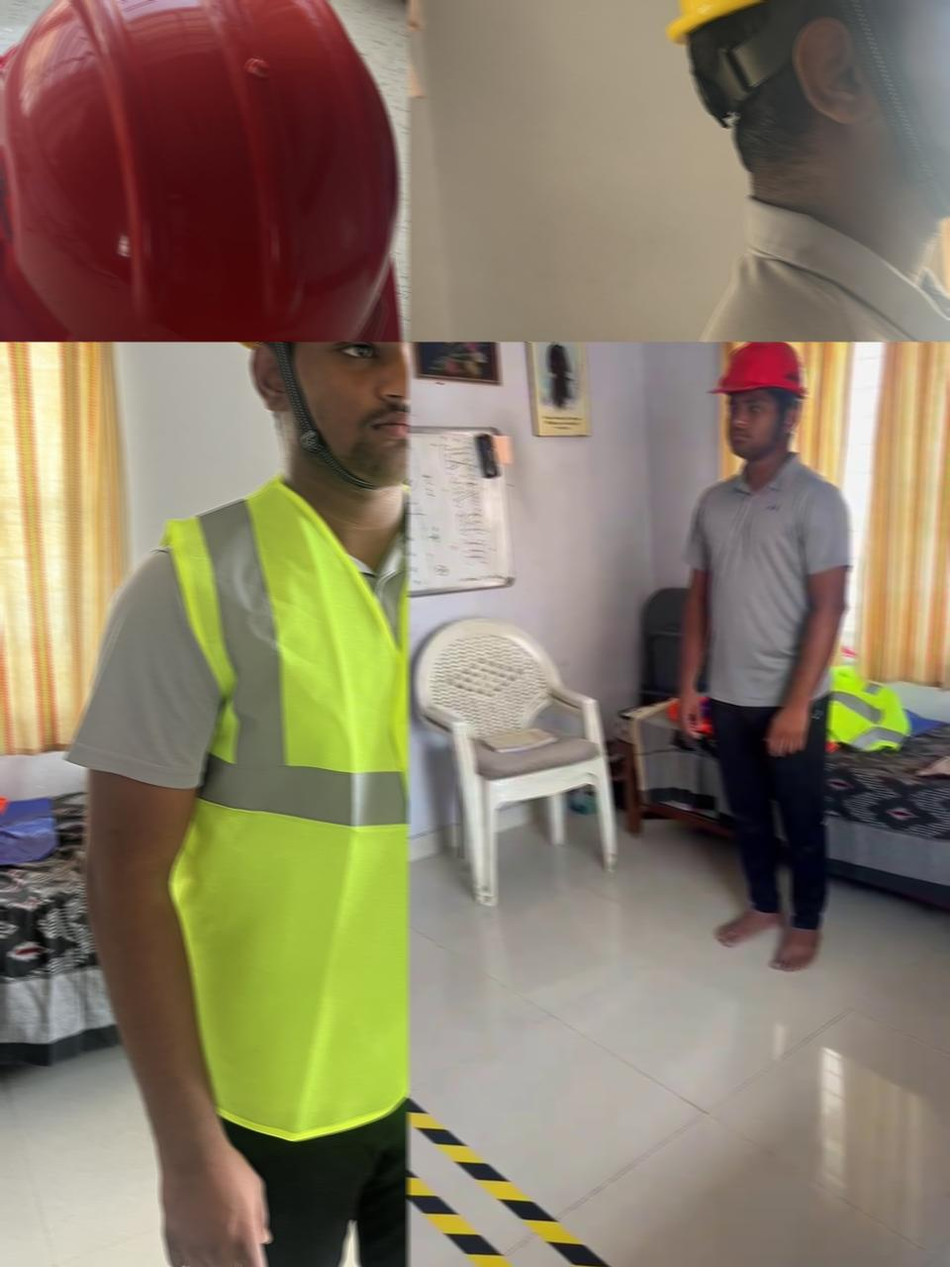BorderLine: (407, 1072, 612, 1267)
Helmet: (0, 0, 404, 341), (667, 0, 950, 215), (229, 341, 409, 490), (707, 341, 808, 397)
No_Vest: (681, 451, 851, 706), (653, 200, 950, 341)
Person: (64, 341, 409, 1267), (674, 341, 853, 973), (653, 0, 950, 341)
Vest: (159, 478, 409, 1143)
